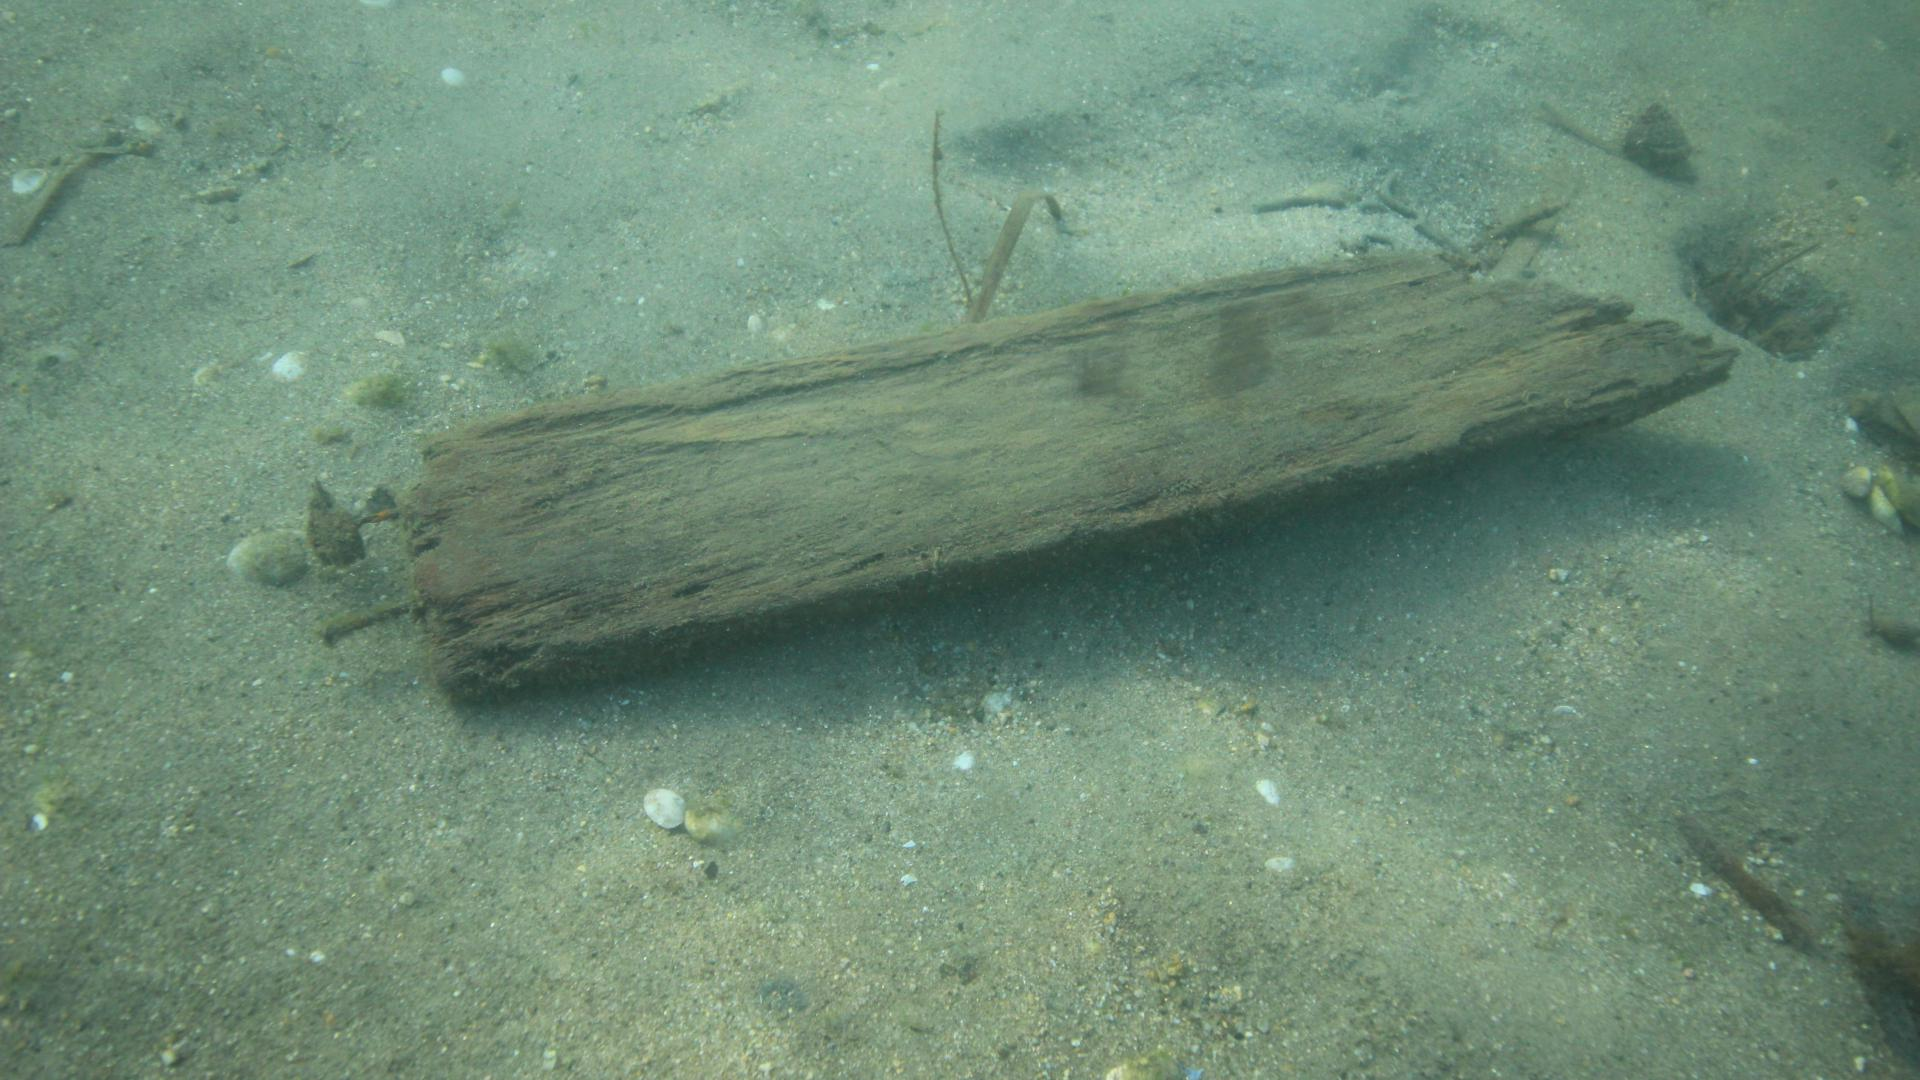wood: (407, 248, 1745, 704)
